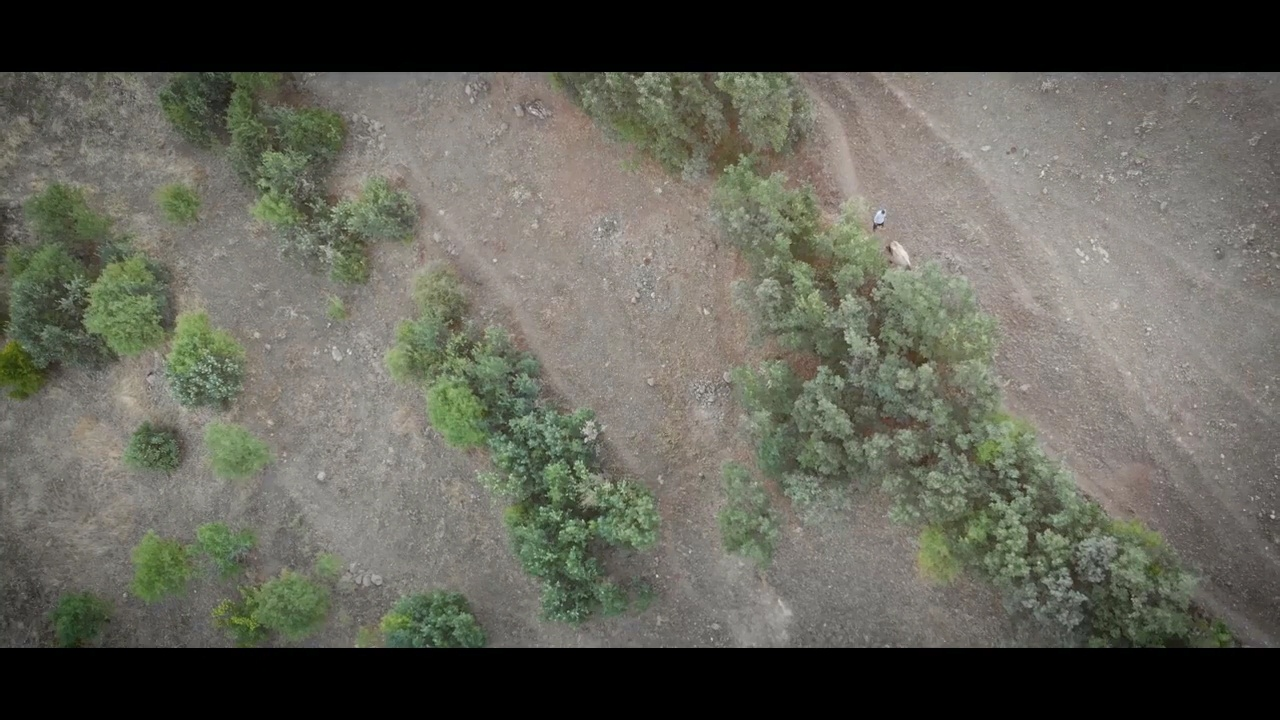insan: (874, 206, 890, 232)
